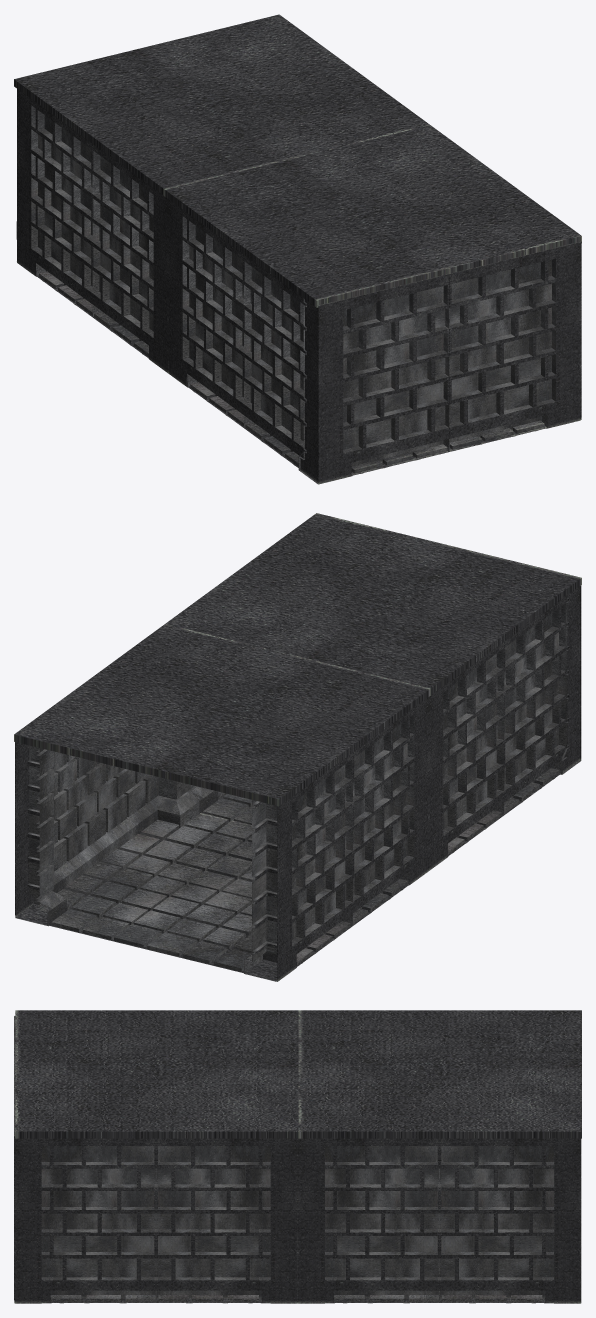
File: level4NEW(CuldeSac).obj
3 views of the same model, one above another, from view 1: azimuth 30°, elevation 25°; view 2: azimuth 150°, elevation 25°; view 3: azimuth 270°, elevation 25° (orthographic). The views are drawn at different scales.
Parts seen in each view (by area): view 1: Plane.119_Plane.245, Plane.118_Plane.244, Plane.099_Plane.225, Plane.100_Plane.226, Plane.091_Plane.217, Plane.102_Plane.228, Plane.096_Plane.222, Plane.101_Plane.227, Plane.094_Plane.220, Plane.092_Plane.218; view 2: Plane.118_Plane.244, Plane.119_Plane.245, Plane.092_Plane.218, Plane.096_Plane.222, Plane.101_Plane.227, Plane.091_Plane.217, Plane.102_Plane.228, Plane.090_Plane.216, Plane.095_Plane.221, Cube.207_Cube.328, Cube.206_Cube.327, Plane.094_Plane.220 (+2 smaller); view 3: Plane.119_Plane.245, Plane.118_Plane.244, Plane.086_Plane.212, Plane.087_Plane.213, Plane.095_Plane.221, Plane.090_Plane.216, Plane.094_Plane.220, Plane.092_Plane.218.
Part boxes in pixels (box(x1,y1,x2,y2)): Plane.119_Plane.245: box(165, 125, 581, 307); Plane.118_Plane.244: box(14, 14, 430, 196); Plane.099_Plane.225: box(318, 274, 449, 484); Plane.100_Plane.226: box(449, 242, 580, 451); Plane.091_Plane.217: box(16, 89, 101, 316); Plane.102_Plane.228: box(168, 199, 253, 427); Plane.096_Plane.222: box(92, 144, 168, 372); Plane.101_Plane.227: box(243, 255, 319, 482); Plane.094_Plane.220: box(187, 382, 546, 474); Plane.092_Plane.218: box(36, 271, 148, 358); Plane.118_Plane.244: box(14, 624, 430, 806); Plane.119_Plane.245: box(165, 513, 581, 695); Plane.092_Plane.218: box(15, 813, 408, 981); Plane.096_Plane.222: box(343, 697, 428, 925); Plane.101_Plane.227: box(494, 586, 579, 814); Plane.091_Plane.217: box(260, 752, 353, 981); Plane.102_Plane.228: box(428, 642, 504, 870); Plane.090_Plane.216: box(15, 742, 122, 926); Plane.095_Plane.221: box(94, 762, 162, 869); Cube.207_Cube.328: box(15, 745, 66, 925); Cube.206_Cube.327: box(244, 800, 277, 981); Plane.094_Plane.220: box(202, 768, 560, 855); Plane.119_Plane.245: box(15, 1010, 298, 1138); Plane.118_Plane.244: box(298, 1010, 581, 1138); Plane.086_Plane.212: box(14, 1136, 156, 1303); Plane.087_Plane.213: box(156, 1138, 297, 1303); Plane.095_Plane.221: box(298, 1138, 439, 1303); Plane.090_Plane.216: box(439, 1138, 580, 1303); Plane.094_Plane.220: box(50, 1288, 297, 1302); Plane.092_Plane.218: box(334, 1288, 581, 1302).
Size of the model in its own units: 8.1 by 5.36 by 16.03.
